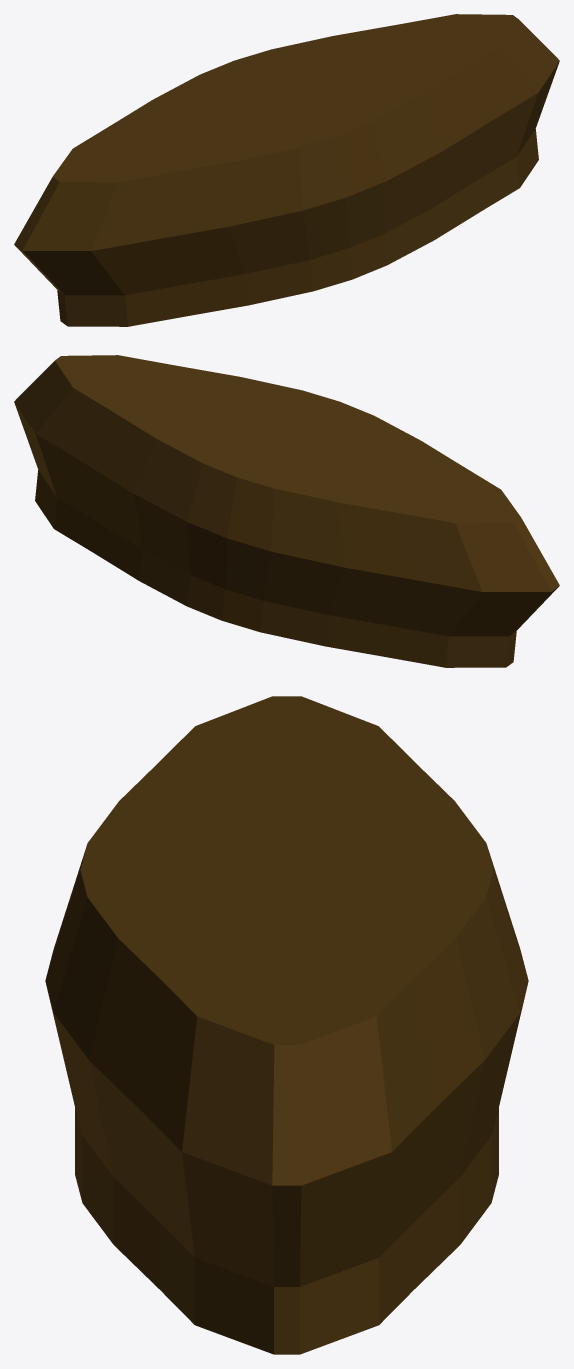
Rendered from SwimmLevelHull.glb.
The picture shows the model from 3 angles, top to bottom: view 1: azimuth 30°, elevation 25°; view 2: azimuth 150°, elevation 25°; view 3: azimuth 270°, elevation 25°; orthographic projection. The views are drawn at different scales.
Parts seen in each view (by area): view 1: boat.004; view 2: boat.004; view 3: boat.004.
Boxes of the visible parts, x1=… form: boat.004: x1=14, y1=14, x2=559, y2=326; boat.004: x1=14, y1=355, x2=559, y2=667; boat.004: x1=45, y1=696, x2=528, y2=1354.
Bounding box in the file's own units: 38.8 × 13.53 × 15.09.
